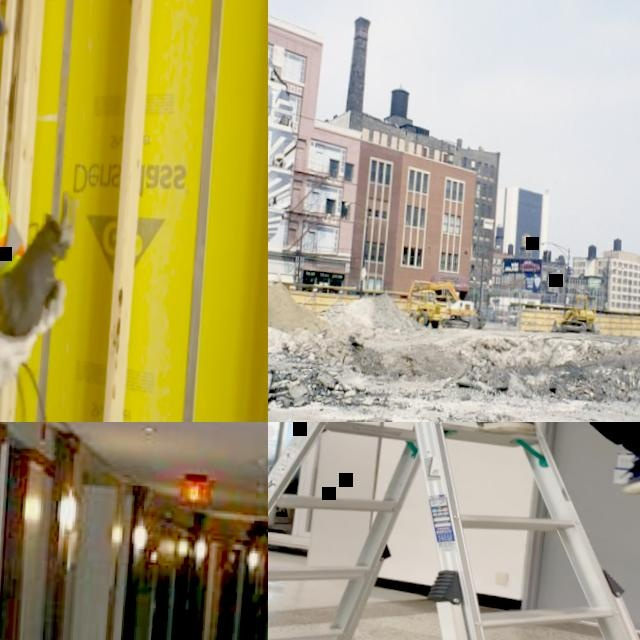Person: (0, 0, 92, 422), (268, 422, 640, 500)
machinery: (401, 279, 486, 331), (550, 291, 600, 335), (407, 287, 442, 329)
